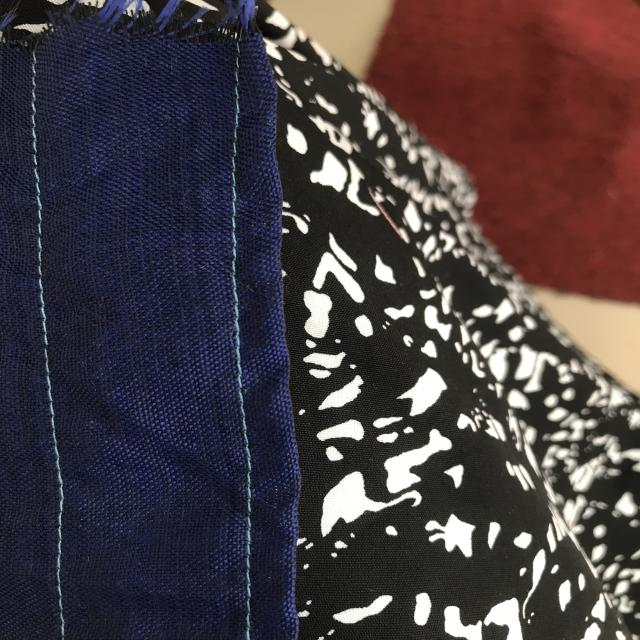good: (24, 250, 80, 440), (216, 205, 256, 415), (239, 461, 264, 606), (28, 72, 48, 238), (225, 66, 248, 185), (54, 472, 68, 586)
